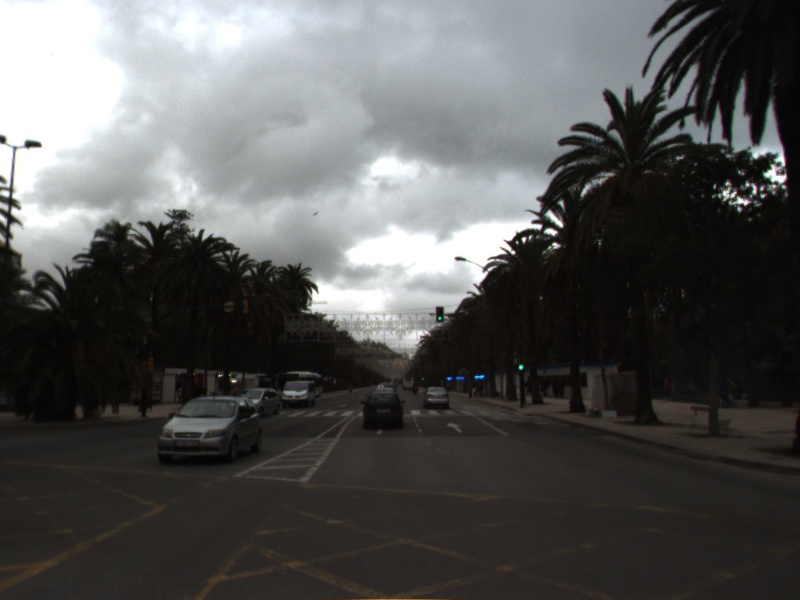STRAIGHT: (444, 420, 466, 435)
